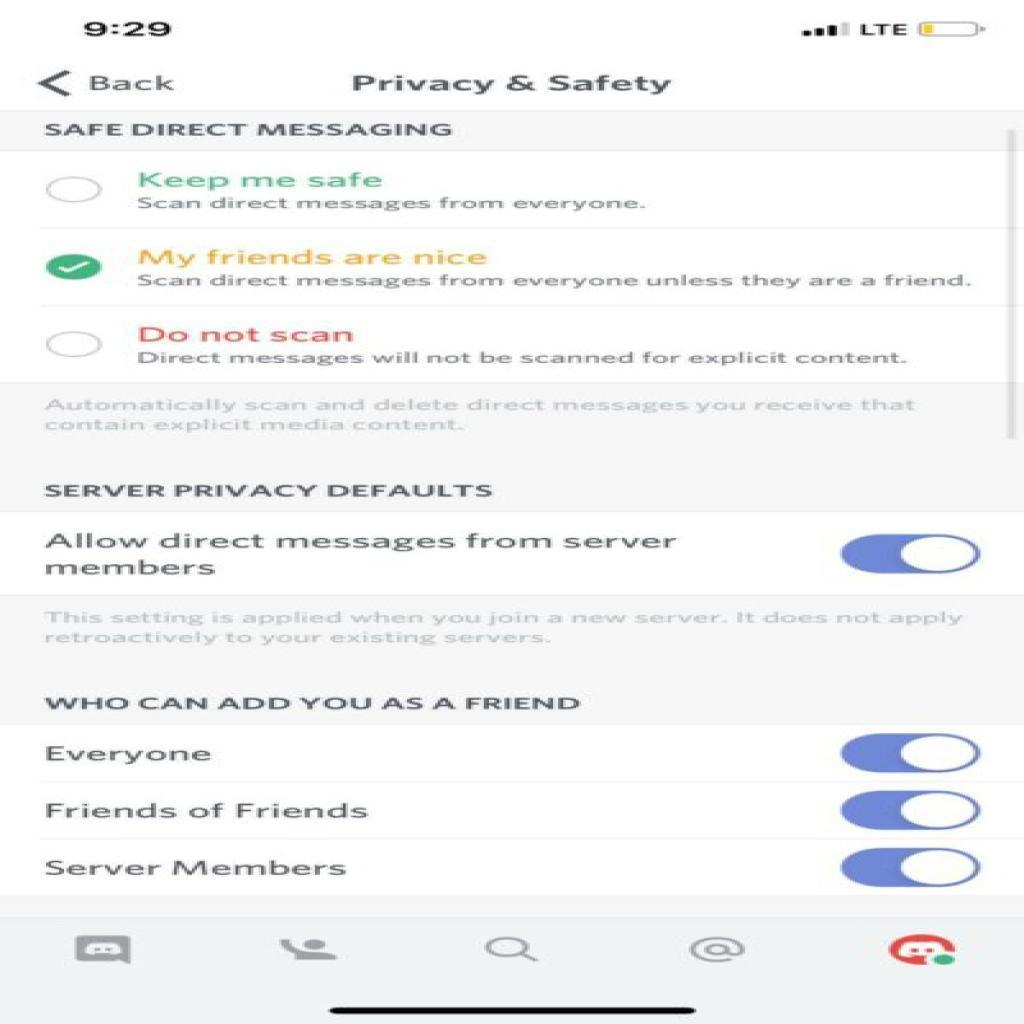icon: (886, 934, 960, 970), (75, 934, 133, 969), (688, 936, 750, 968), (278, 936, 343, 966), (34, 64, 78, 107), (484, 936, 542, 967)
label: (42, 526, 686, 579), (40, 692, 586, 719), (349, 68, 680, 104), (46, 478, 498, 504), (42, 798, 380, 826), (40, 856, 355, 883), (135, 165, 387, 196), (137, 248, 498, 269), (137, 322, 357, 350), (45, 742, 219, 768), (84, 66, 180, 105)
radio: (44, 175, 106, 207), (44, 330, 107, 361), (47, 252, 104, 286)
switch: (840, 733, 983, 775), (841, 534, 983, 576), (841, 791, 981, 833), (840, 848, 982, 888)
